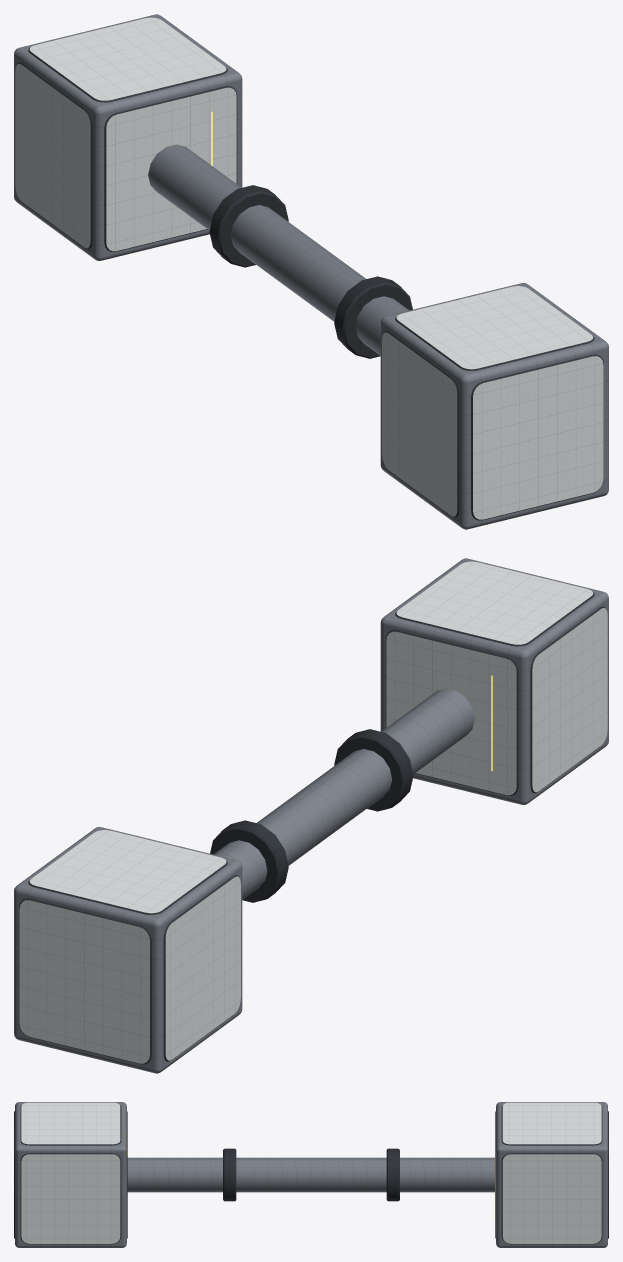
The model's file is R4C_STRUT_LONG.glb.
The picture shows the model from 3 angles, top to bottom: view 1: azimuth 30°, elevation 25°; view 2: azimuth 150°, elevation 25°; view 3: azimuth 270°, elevation 25°; orthographic projection. The views are drawn at different scales.
Parts seen in each view (by area): view 1: R4C_STRUT_LONG; view 2: R4C_STRUT_LONG; view 3: R4C_STRUT_LONG.
Boxes of the visible parts, left/top/right/bottom form: R4C_STRUT_LONG: left=14, top=14, right=608, bottom=529; R4C_STRUT_LONG: left=14, top=558, right=608, bottom=1073; R4C_STRUT_LONG: left=14, top=1102, right=608, bottom=1247.
Size of the model in its own units: 0.52 by 0.52 by 2.72.
4 materials, 3 textured.
